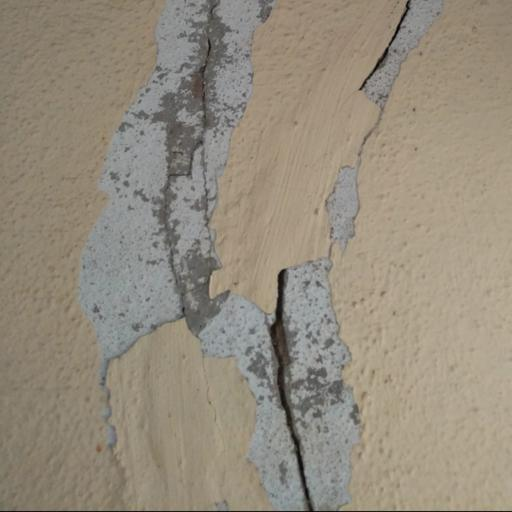peeling: (68, 0, 454, 512)
